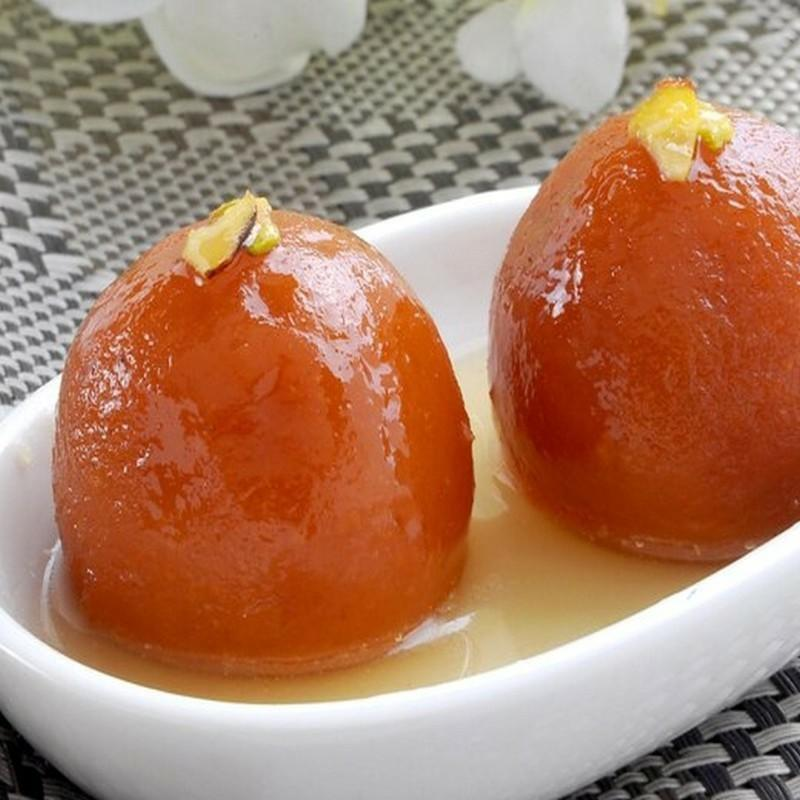GulabJamun: (53, 194, 475, 676), (493, 84, 800, 566)
